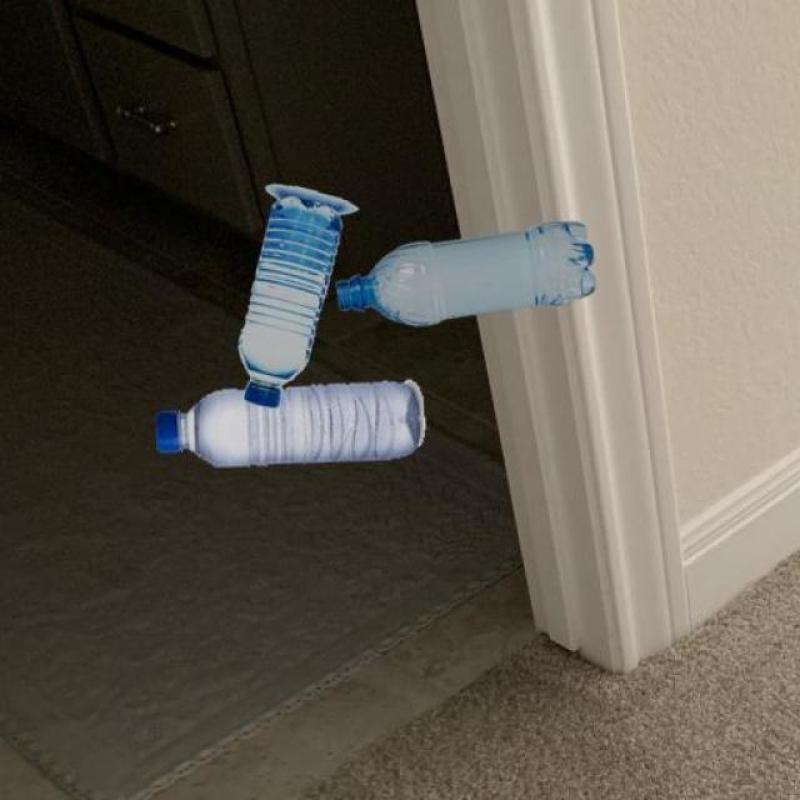botella: (334, 222, 597, 326), (156, 381, 420, 469), (235, 197, 345, 408)
